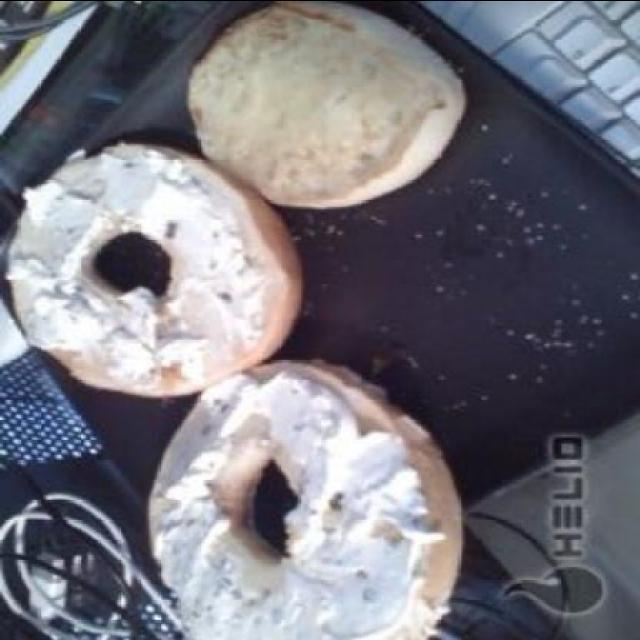Bagel: (149, 360, 465, 640), (10, 138, 299, 396), (186, 1, 468, 208)
